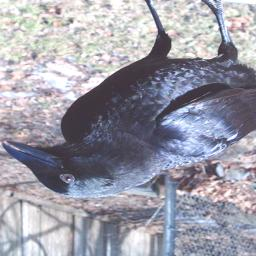Crow: (1, 0, 256, 198)
